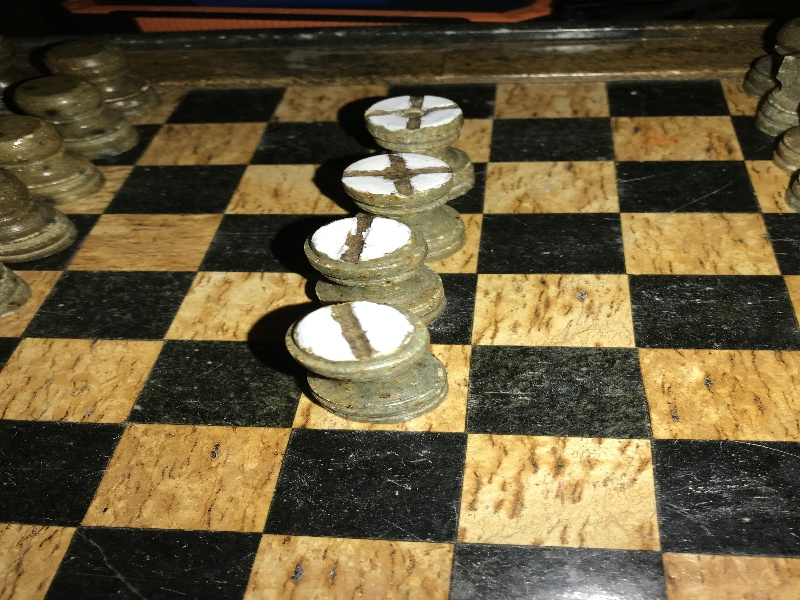WhiteBishop: (366, 94, 473, 201), (341, 154, 468, 240)
WhiteRook: (286, 301, 450, 423), (304, 216, 446, 325)
